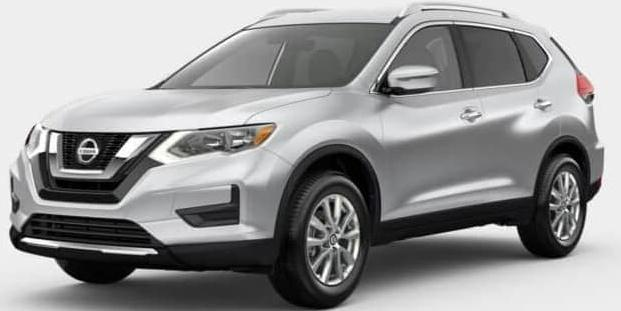SUV: (11, 6, 605, 309)
